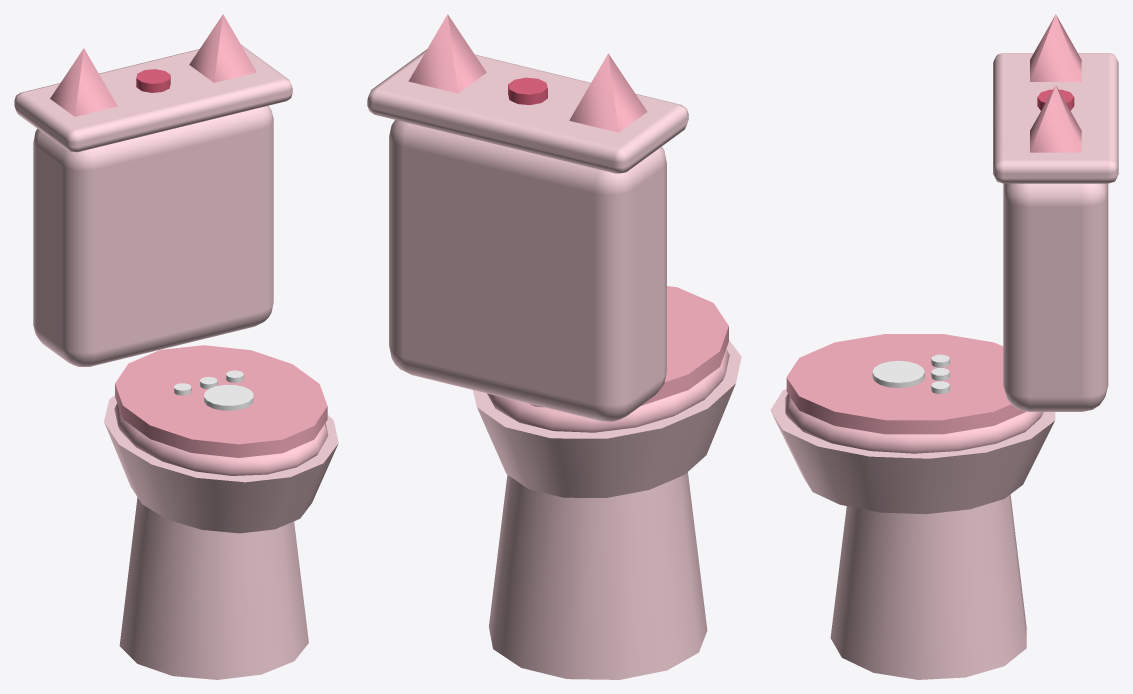
The model's file is toilet-kitty.glb.
3 views of the same model, side by side, from view 1: azimuth 30°, elevation 25°; view 2: azimuth 150°, elevation 25°; view 3: azimuth 270°, elevation 25° (orthographic). The views are drawn at different scales.
Size of the model in its own units: 0.52 by 1.24 by 0.665.
